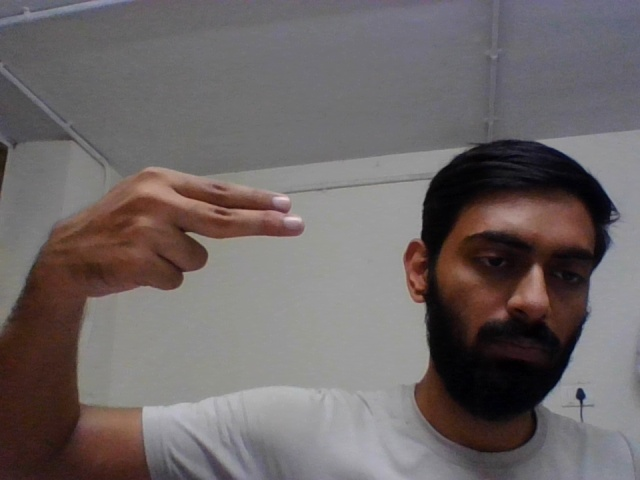H: (51, 163, 311, 302)
